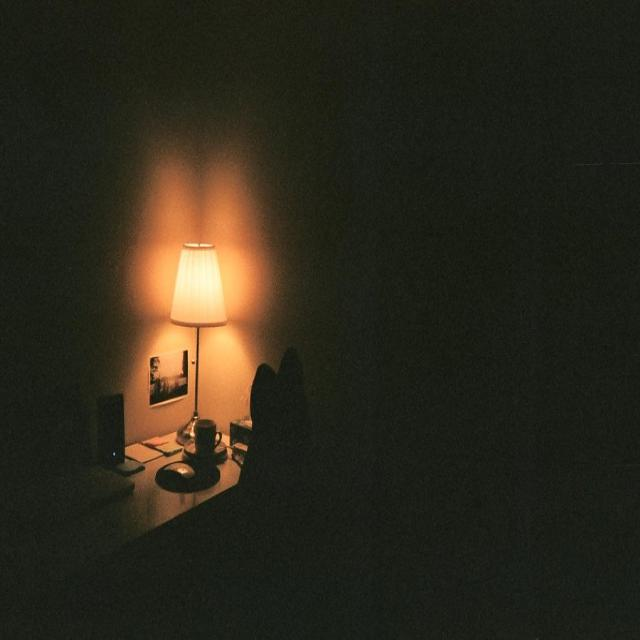Cup: (192, 394, 228, 471)
Table: (0, 302, 337, 640)
chair: (247, 351, 326, 581)
